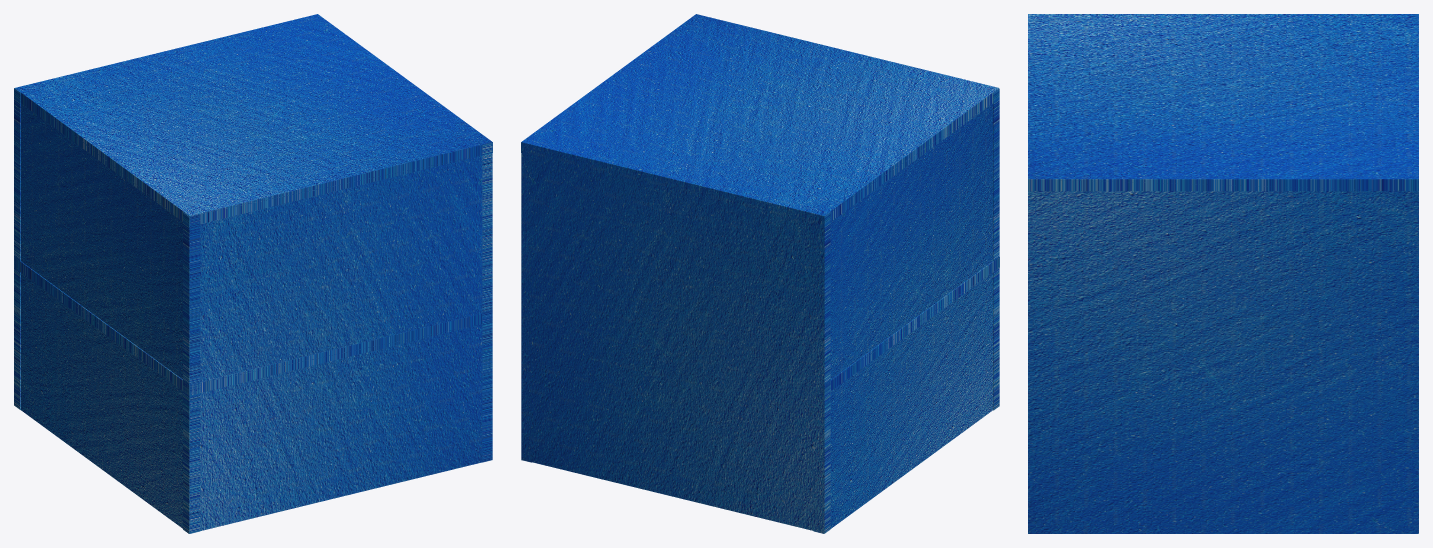
File: pingpong_table10.gltf
3 renders of one model, left to right at view 1: azimuth 30°, elevation 25°; view 2: azimuth 150°, elevation 25°; view 3: azimuth 270°, elevation 25°, orthographic. The views are drawn at different scales.
Visible parts, largest first — view 1: Plane.012, Plane.015, Plane.011, Plane.014, Plane.013, Plane.016; view 2: Plane.016, Plane.015, Plane.011, Plane.012, Plane.014; view 3: Plane.013, Plane.015, Plane.016.
Part boxes in pixels (x1=…): Plane.012: x1=183, y1=155, x2=482, y2=533; Plane.015: x1=15, y1=14, x2=492, y2=226; Plane.011: x1=20, y1=103, x2=200, y2=533; Plane.014: x1=14, y1=257, x2=492, y2=395; Plane.013: x1=482, y1=143, x2=492, y2=462; Plane.016: x1=14, y1=88, x2=20, y2=409; Plane.016: x1=521, y1=142, x2=830, y2=533; Plane.015: x1=521, y1=14, x2=999, y2=221; Plane.011: x1=813, y1=104, x2=992, y2=533; Plane.012: x1=993, y1=89, x2=999, y2=410; Plane.014: x1=824, y1=257, x2=999, y2=393; Plane.013: x1=1028, y1=191, x2=1418, y2=533; Plane.015: x1=1028, y1=14, x2=1418, y2=191; Plane.016: x1=1418, y1=14, x2=1418, y2=532.
Bounding box in the file's own units: 38.87 × 38.89 × 38.82.
28 materials, 28 textured.
